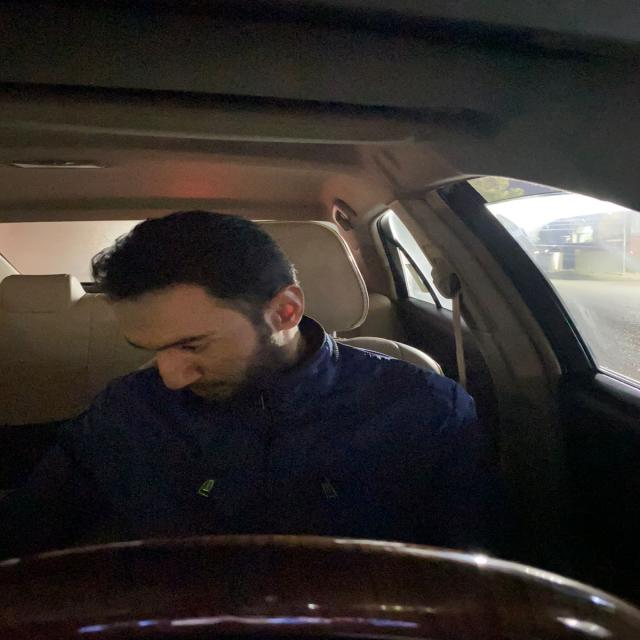person: (87, 239, 311, 399)
